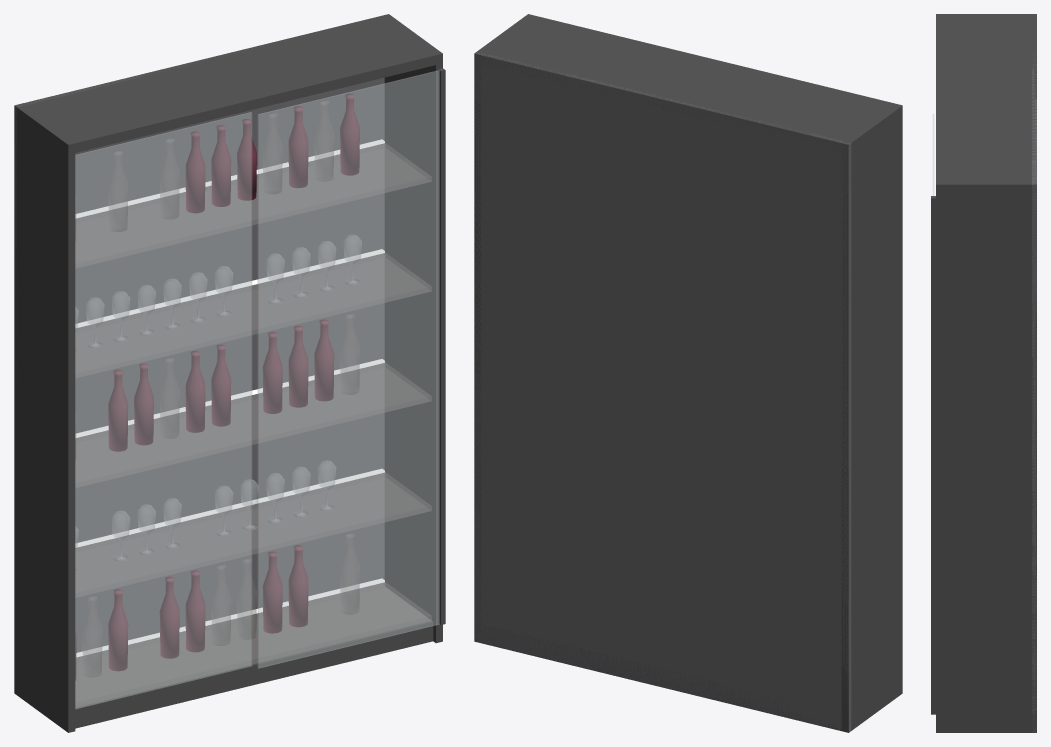
File: it_wine_cabinet.glb
The picture shows the model from 3 angles, left to right: view 1: azimuth 30°, elevation 25°; view 2: azimuth 150°, elevation 25°; view 3: azimuth 270°, elevation 25°; orthographic projection. The views are drawn at different scales.
Parts seen in each view (by area): view 1: back, door1, door-1, side, side.001, top, plinth, shelf1, shelf3, shelf0, shelf2, shelf4 (+34 smaller); view 2: back, side, top, side.001, plinth, dframe-1; view 3: side.001, top, back, dframe1.
Part boxes in pixels (left/top/right/bottom): back: left=14, top=46, right=384, bottom=660; door1: left=258, top=70, right=439, bottom=668; door-1: left=75, top=112, right=251, bottom=708; side: left=14, top=105, right=75, bottom=732; side.001: left=384, top=54, right=442, bottom=643; top: left=15, top=14, right=442, bottom=152; plinth: left=15, top=586, right=433, bottom=728; shelf1: left=75, top=473, right=431, bottom=597; shelf3: left=75, top=253, right=431, bottom=377; shelf0: left=75, top=582, right=431, bottom=706; shelf2: left=75, top=363, right=431, bottom=487; shelf4: left=75, top=143, right=431, bottom=267; back: left=474, top=52, right=851, bottom=732; side: left=841, top=107, right=902, bottom=732; top: left=475, top=14, right=902, bottom=146; side.001: left=474, top=43, right=495, bottom=642; plinth: left=474, top=623, right=899, bottom=730; dframe-1: left=898, top=121, right=901, bottom=676; side.001: left=936, top=181, right=1036, bottom=732; top: left=936, top=14, right=1036, bottom=193; back: left=1032, top=50, right=1036, bottom=732; dframe1: left=931, top=196, right=935, bottom=714.
Bounding box in the file's own units: 1.6 × 2.4 × 0.42.
